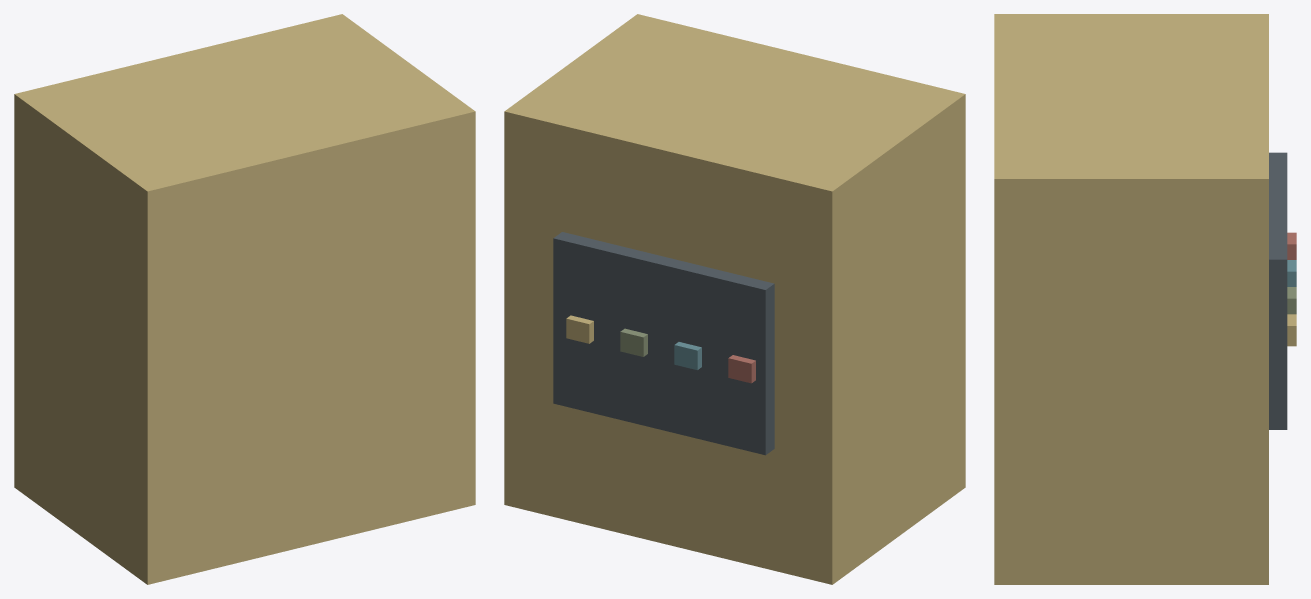
File: iz2_logistics_supply_cage.glb
The picture shows the model from 3 angles, left to right: view 1: azimuth 30°, elevation 25°; view 2: azimuth 150°, elevation 25°; view 3: azimuth 270°, elevation 25°; orthographic projection. The views are drawn at different scales.
Parts seen in each view (by area): view 1: body; view 2: body; view 3: body.
Boxes of the visible parts, x1,y1,x2,y2 form: body: (14, 14, 475, 584); body: (504, 14, 965, 584); body: (994, 14, 1296, 584).
Size of the model in its own units: 0.877 by 1 by 0.6781.
